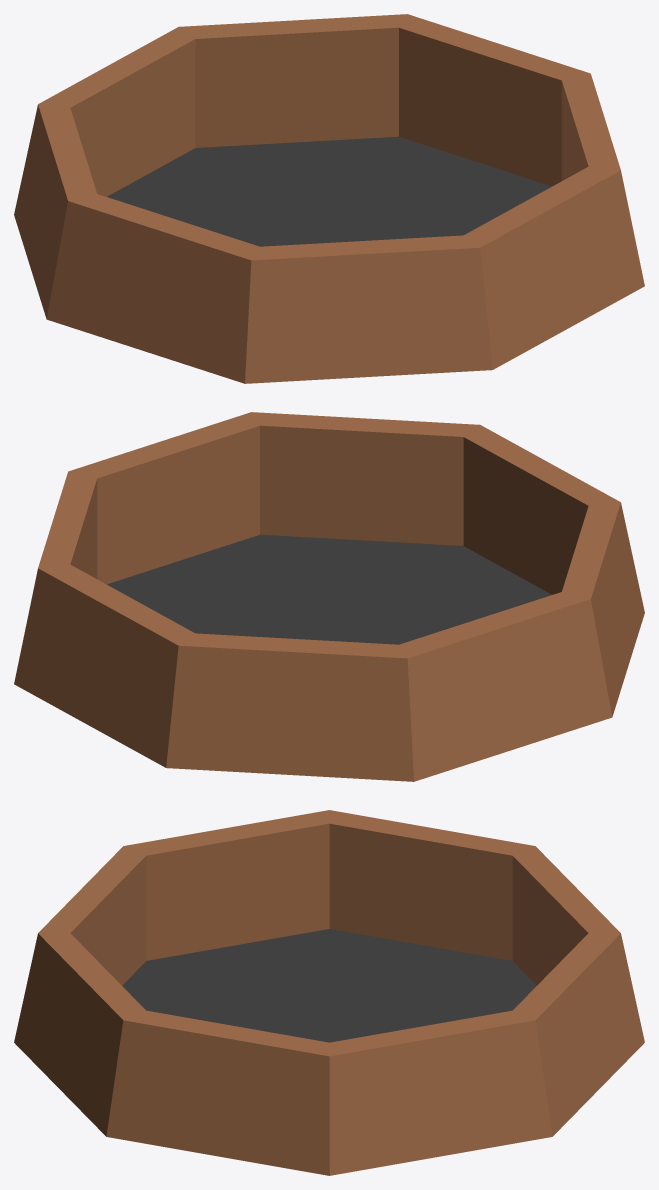
File: Gamelle.fbx
The picture shows the model from 3 angles, top to bottom: view 1: azimuth 30°, elevation 25°; view 2: azimuth 150°, elevation 25°; view 3: azimuth 270°, elevation 25°; orthographic projection. The views are drawn at different scales.
Parts seen in each view (by area): view 1: pSphere1; view 2: pSphere1; view 3: pSphere1.
Part boxes in pixels (x1,y1,x2,y2): pSphere1: [14, 14, 644, 383]; pSphere1: [14, 412, 644, 781]; pSphere1: [14, 810, 644, 1175].
Bounding box in the file's own units: 120 × 23.01 × 120.
